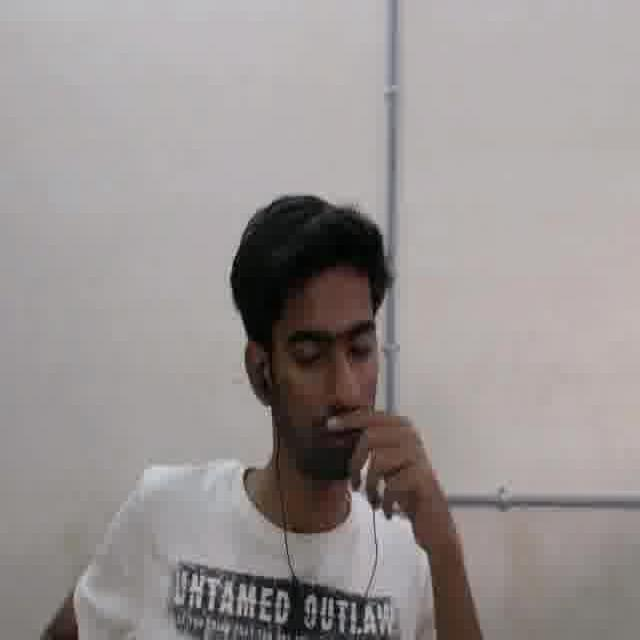Boredom: (269, 274, 378, 474)
